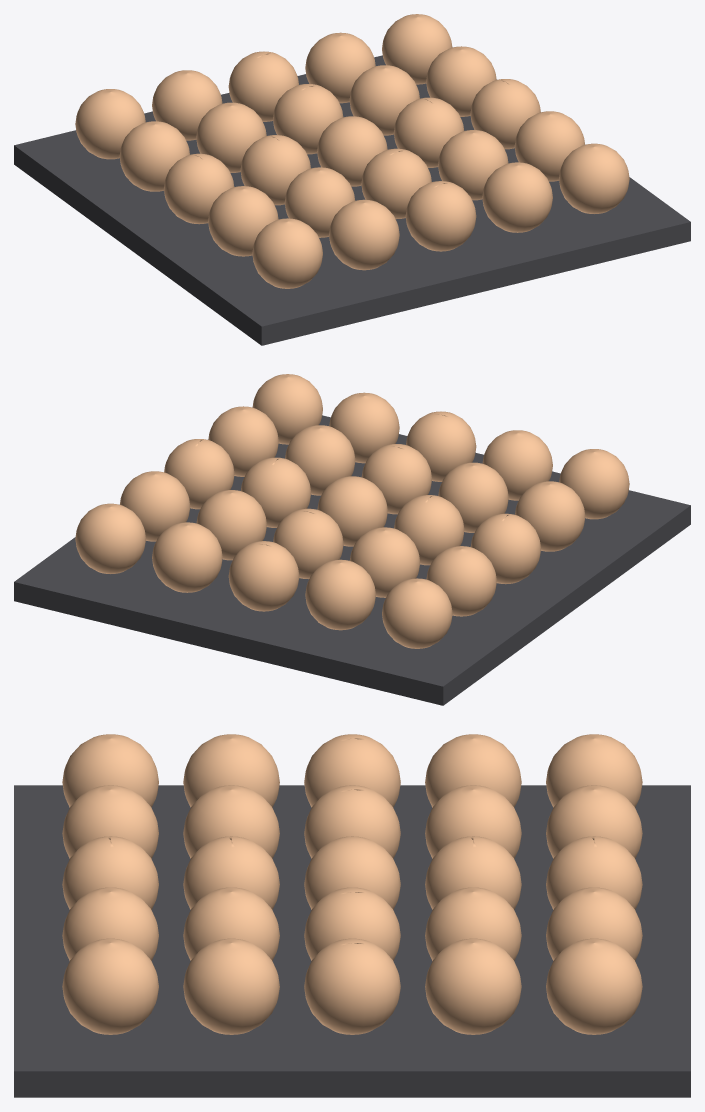
3 renders of one model, top to bottom at view 1: azimuth 30°, elevation 25°; view 2: azimuth 150°, elevation 25°; view 3: azimuth 270°, elevation 25°, orthographic. The views are drawn at different scales.
Parts seen in each view (by area): view 1: From clay to chrome; view 2: From clay to chrome; view 3: From clay to chrome.
Part boxes in pixels (x1=…): From clay to chrome: x1=14, y1=14, x2=690, y2=345; From clay to chrome: x1=14, y1=374, x2=690, y2=705; From clay to chrome: x1=14, y1=734, x2=690, y2=1097.
Size of the model in its own units: 7 by 1.3 by 7.
